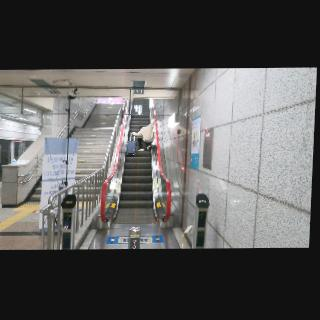anomaly: (128, 119, 160, 153)
